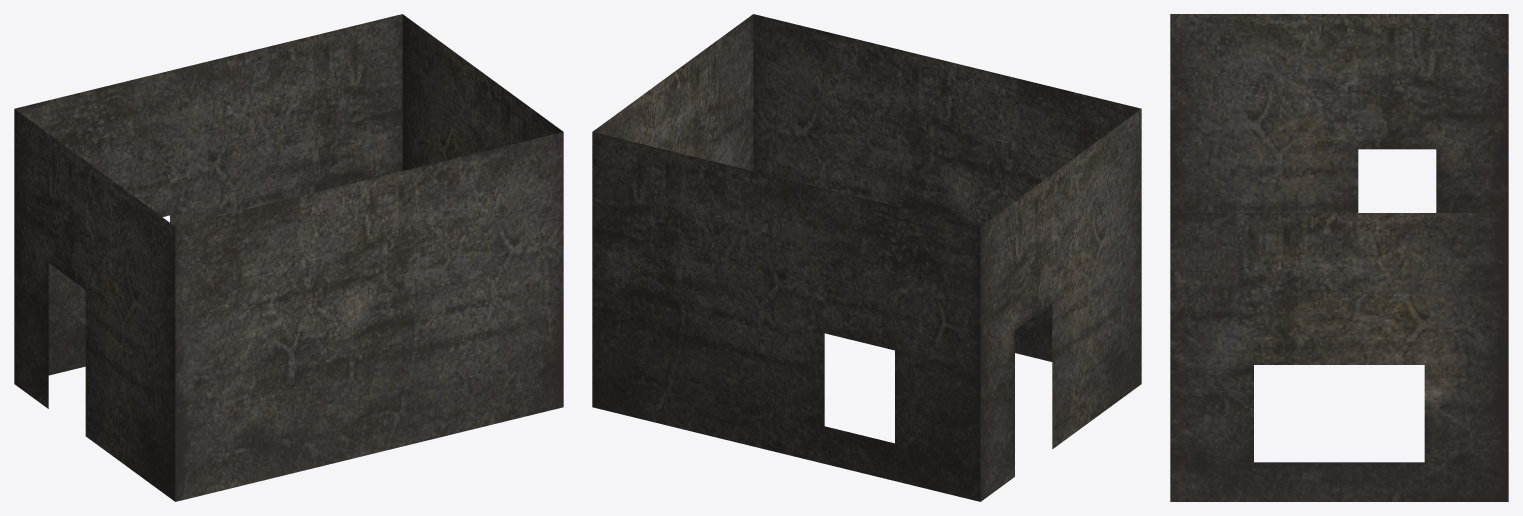
File: RoofWalls.FBX
The picture shows the model from 3 angles, left to right: view 1: azimuth 30°, elevation 25°; view 2: azimuth 150°, elevation 25°; view 3: azimuth 270°, elevation 25°; orthographic projection. The views are drawn at different scales.
Visible parts, largest first — view 1: RoofWalls; view 2: RoofWalls; view 3: RoofWalls.
Boxes of the visible parts, x1,y1,x2,y2 form: RoofWalls: (14, 14, 563, 501); RoofWalls: (592, 14, 1141, 501); RoofWalls: (1170, 14, 1508, 501).
Bounding box in the file's own units: 755 × 511 × 543.
